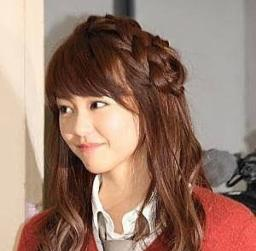face: (59, 96, 139, 170)
